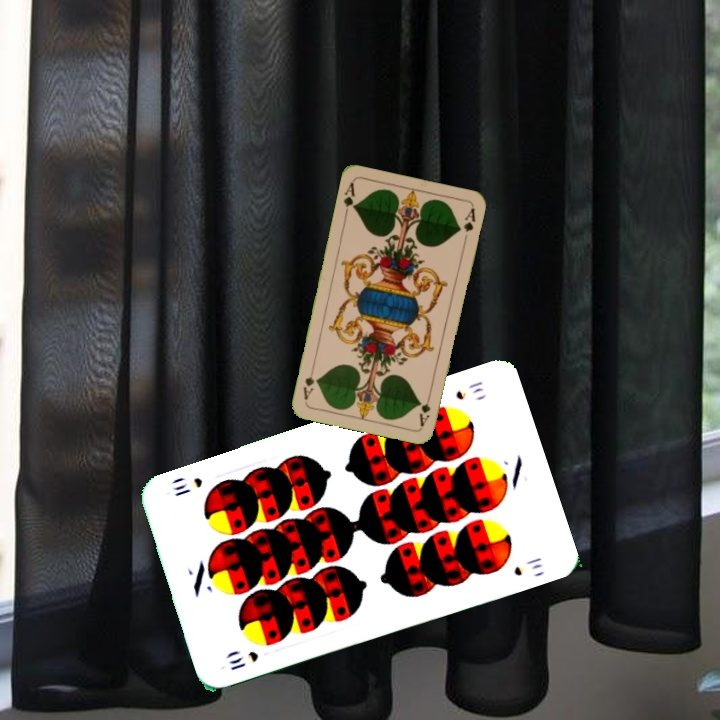GA: (339, 179, 358, 219), (415, 389, 434, 429)
S10: (225, 647, 261, 673), (451, 377, 486, 403)
